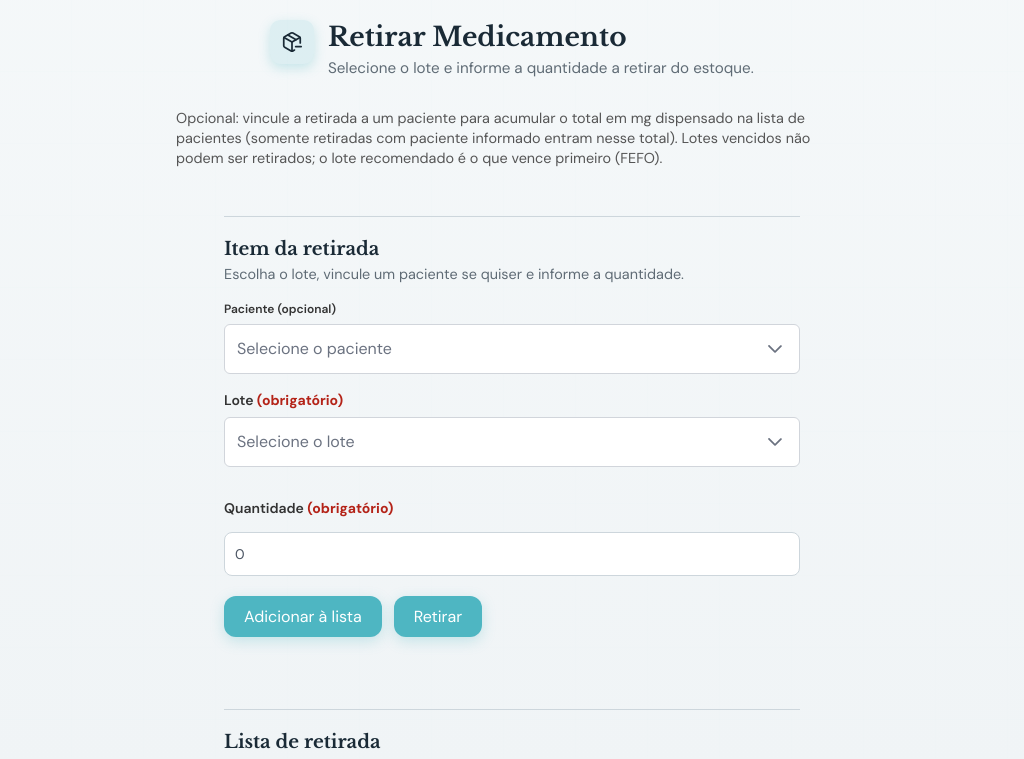
Test: RetiraMedication › destaca quando há item preenchido no formulário que ainda não está na lista
Click the text "Selecione o lote".
click(296, 441)  # box 237,431 -> 355,452
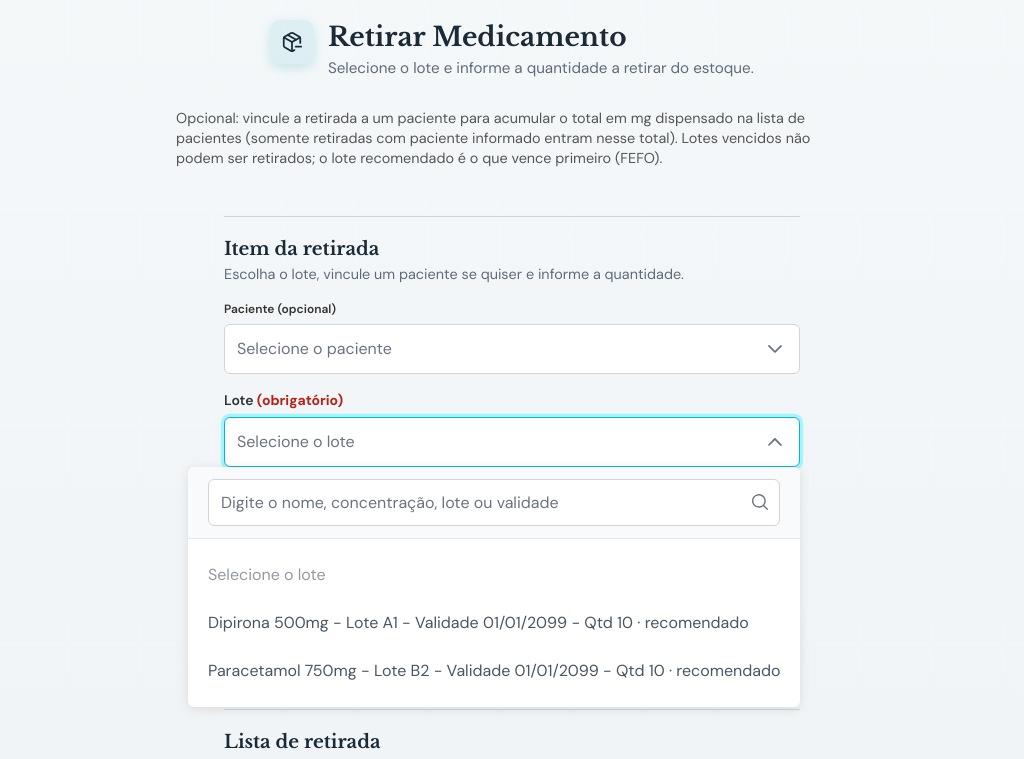
Click the option named "Dipirona 500mg - Lote A1 - Validade 01/01/2099 - Qtd 10 · re".
click(478, 622)  # box 208,612 -> 749,633
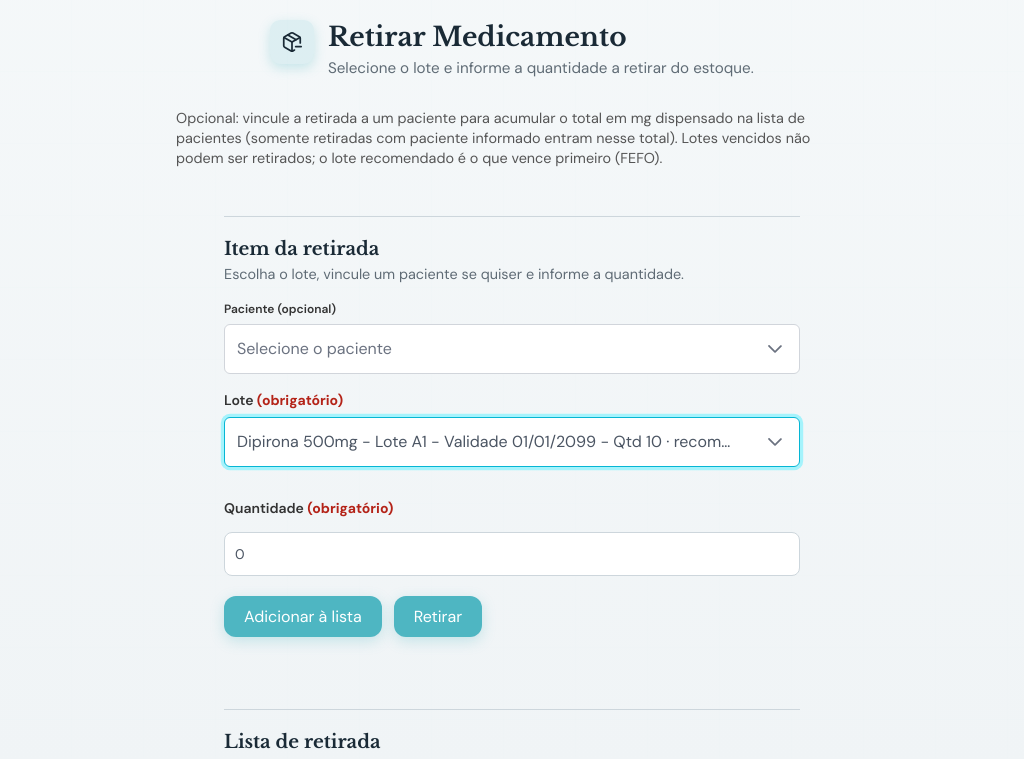
Replace the text in the number field with placeholder "Digite a quantidade à retirar" with "1" at {"x": 512, "y": 554}, box 224,532 -> 800,576
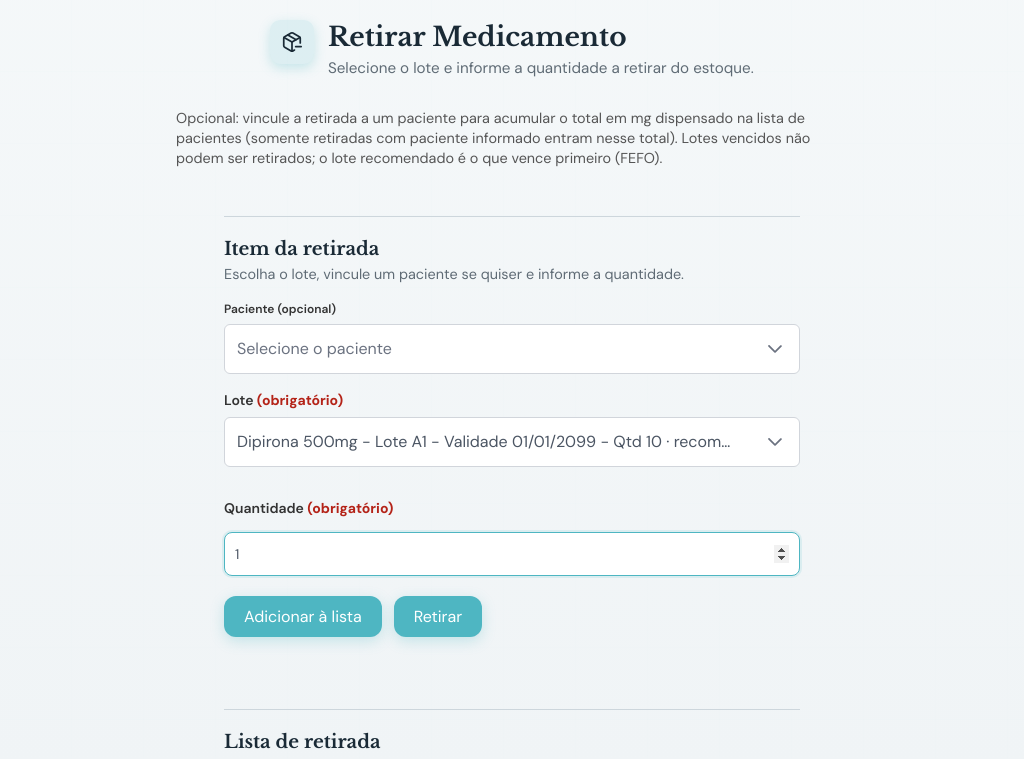
Click the button "Adicionar à lista".
click(303, 617)  # box 224,596 -> 382,637
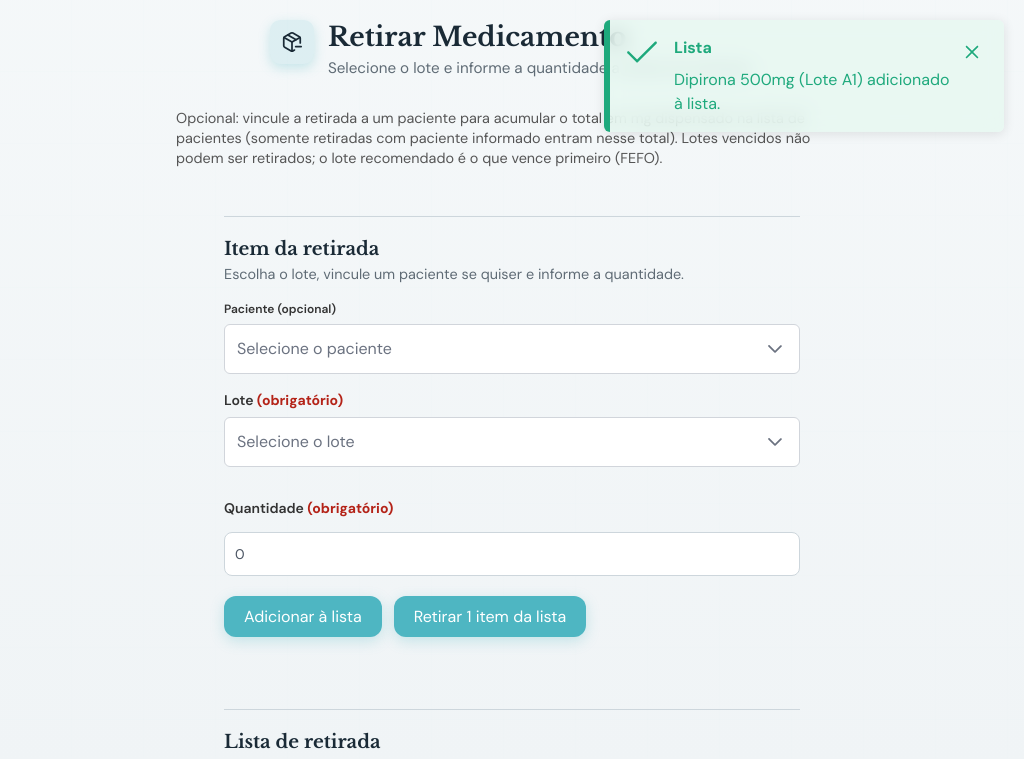
Replace the text in the number field with placeholder "Digite a quantidade à retirar" with "2" at {"x": 512, "y": 554}, box 224,532 -> 800,576
(page scrolled)
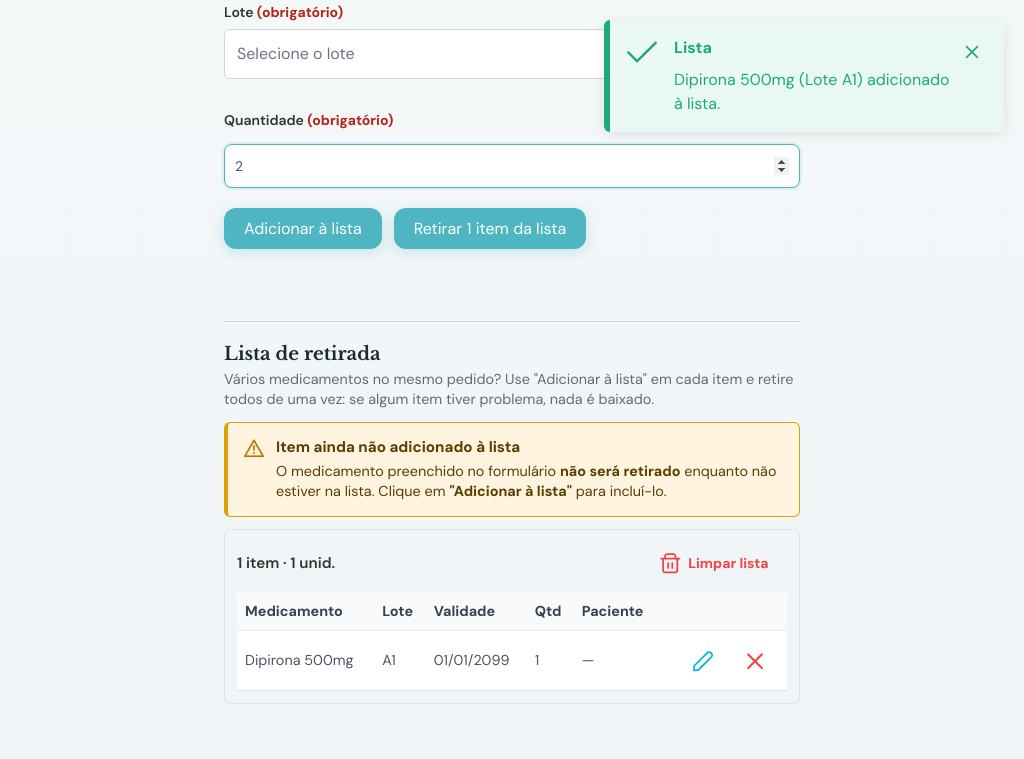
Check: the element that starts with "Item ainda não adicionado à lista" is shown, box 276,437 -> 520,457
